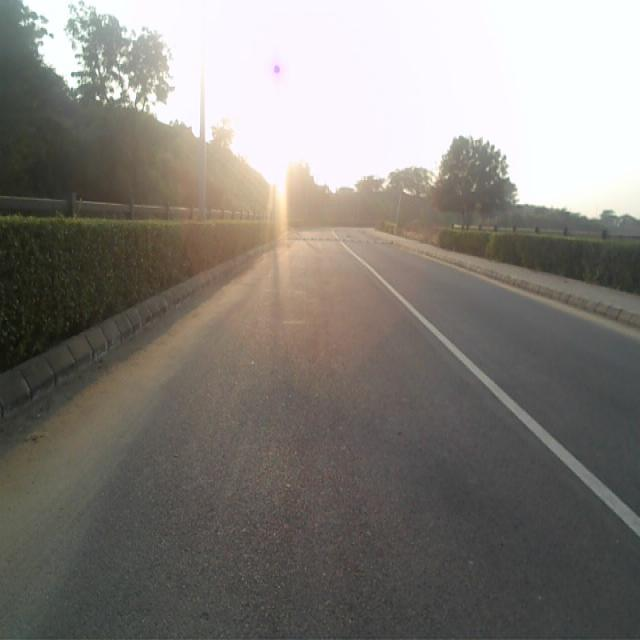lane: (0, 230, 640, 640)
